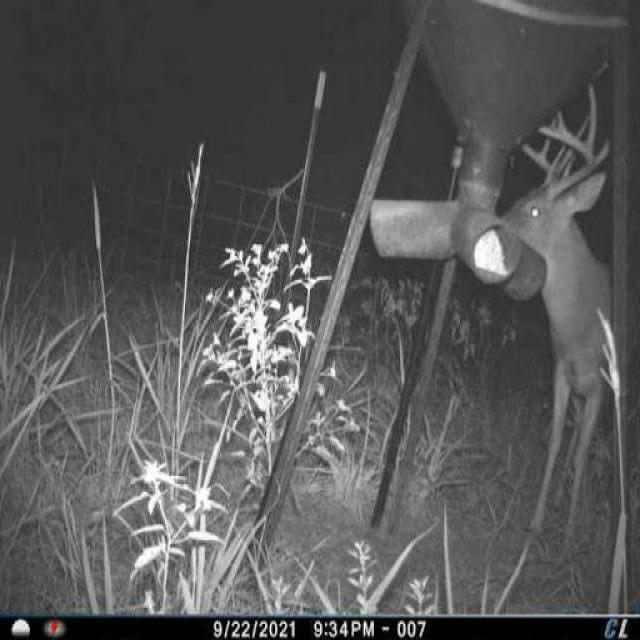deer: (505, 84, 619, 544)
